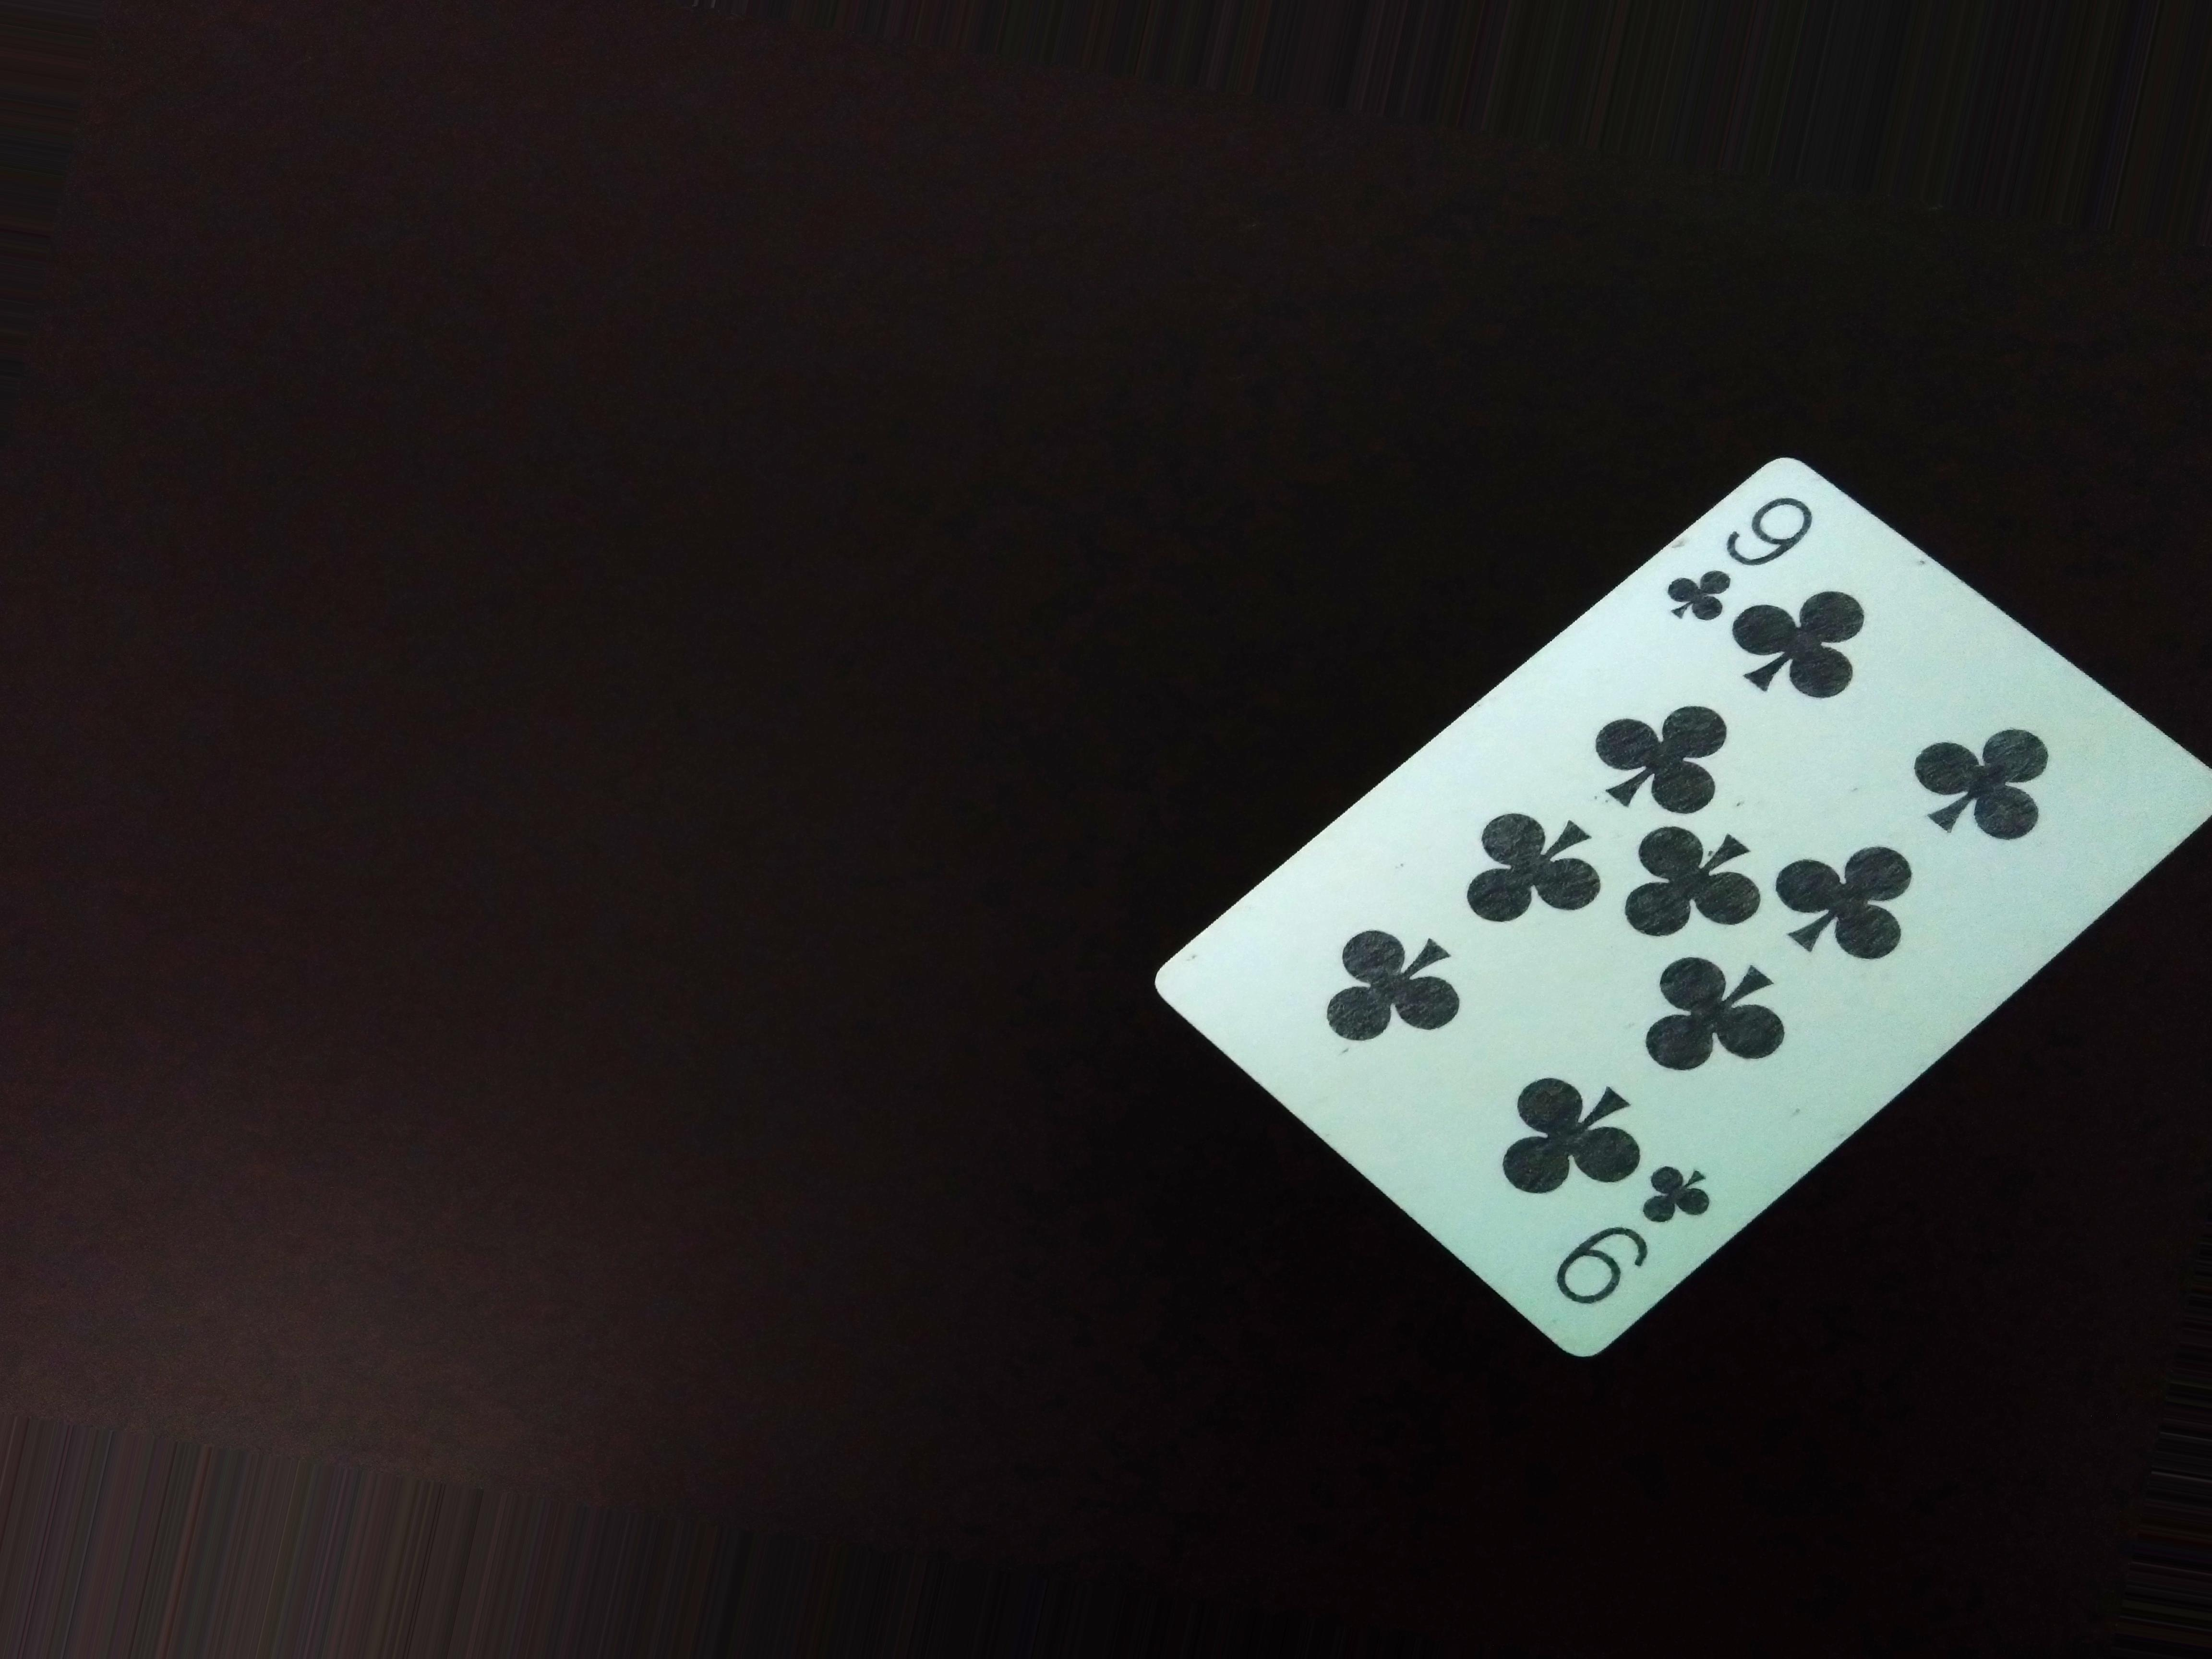9C: (1632, 472, 1806, 645)
